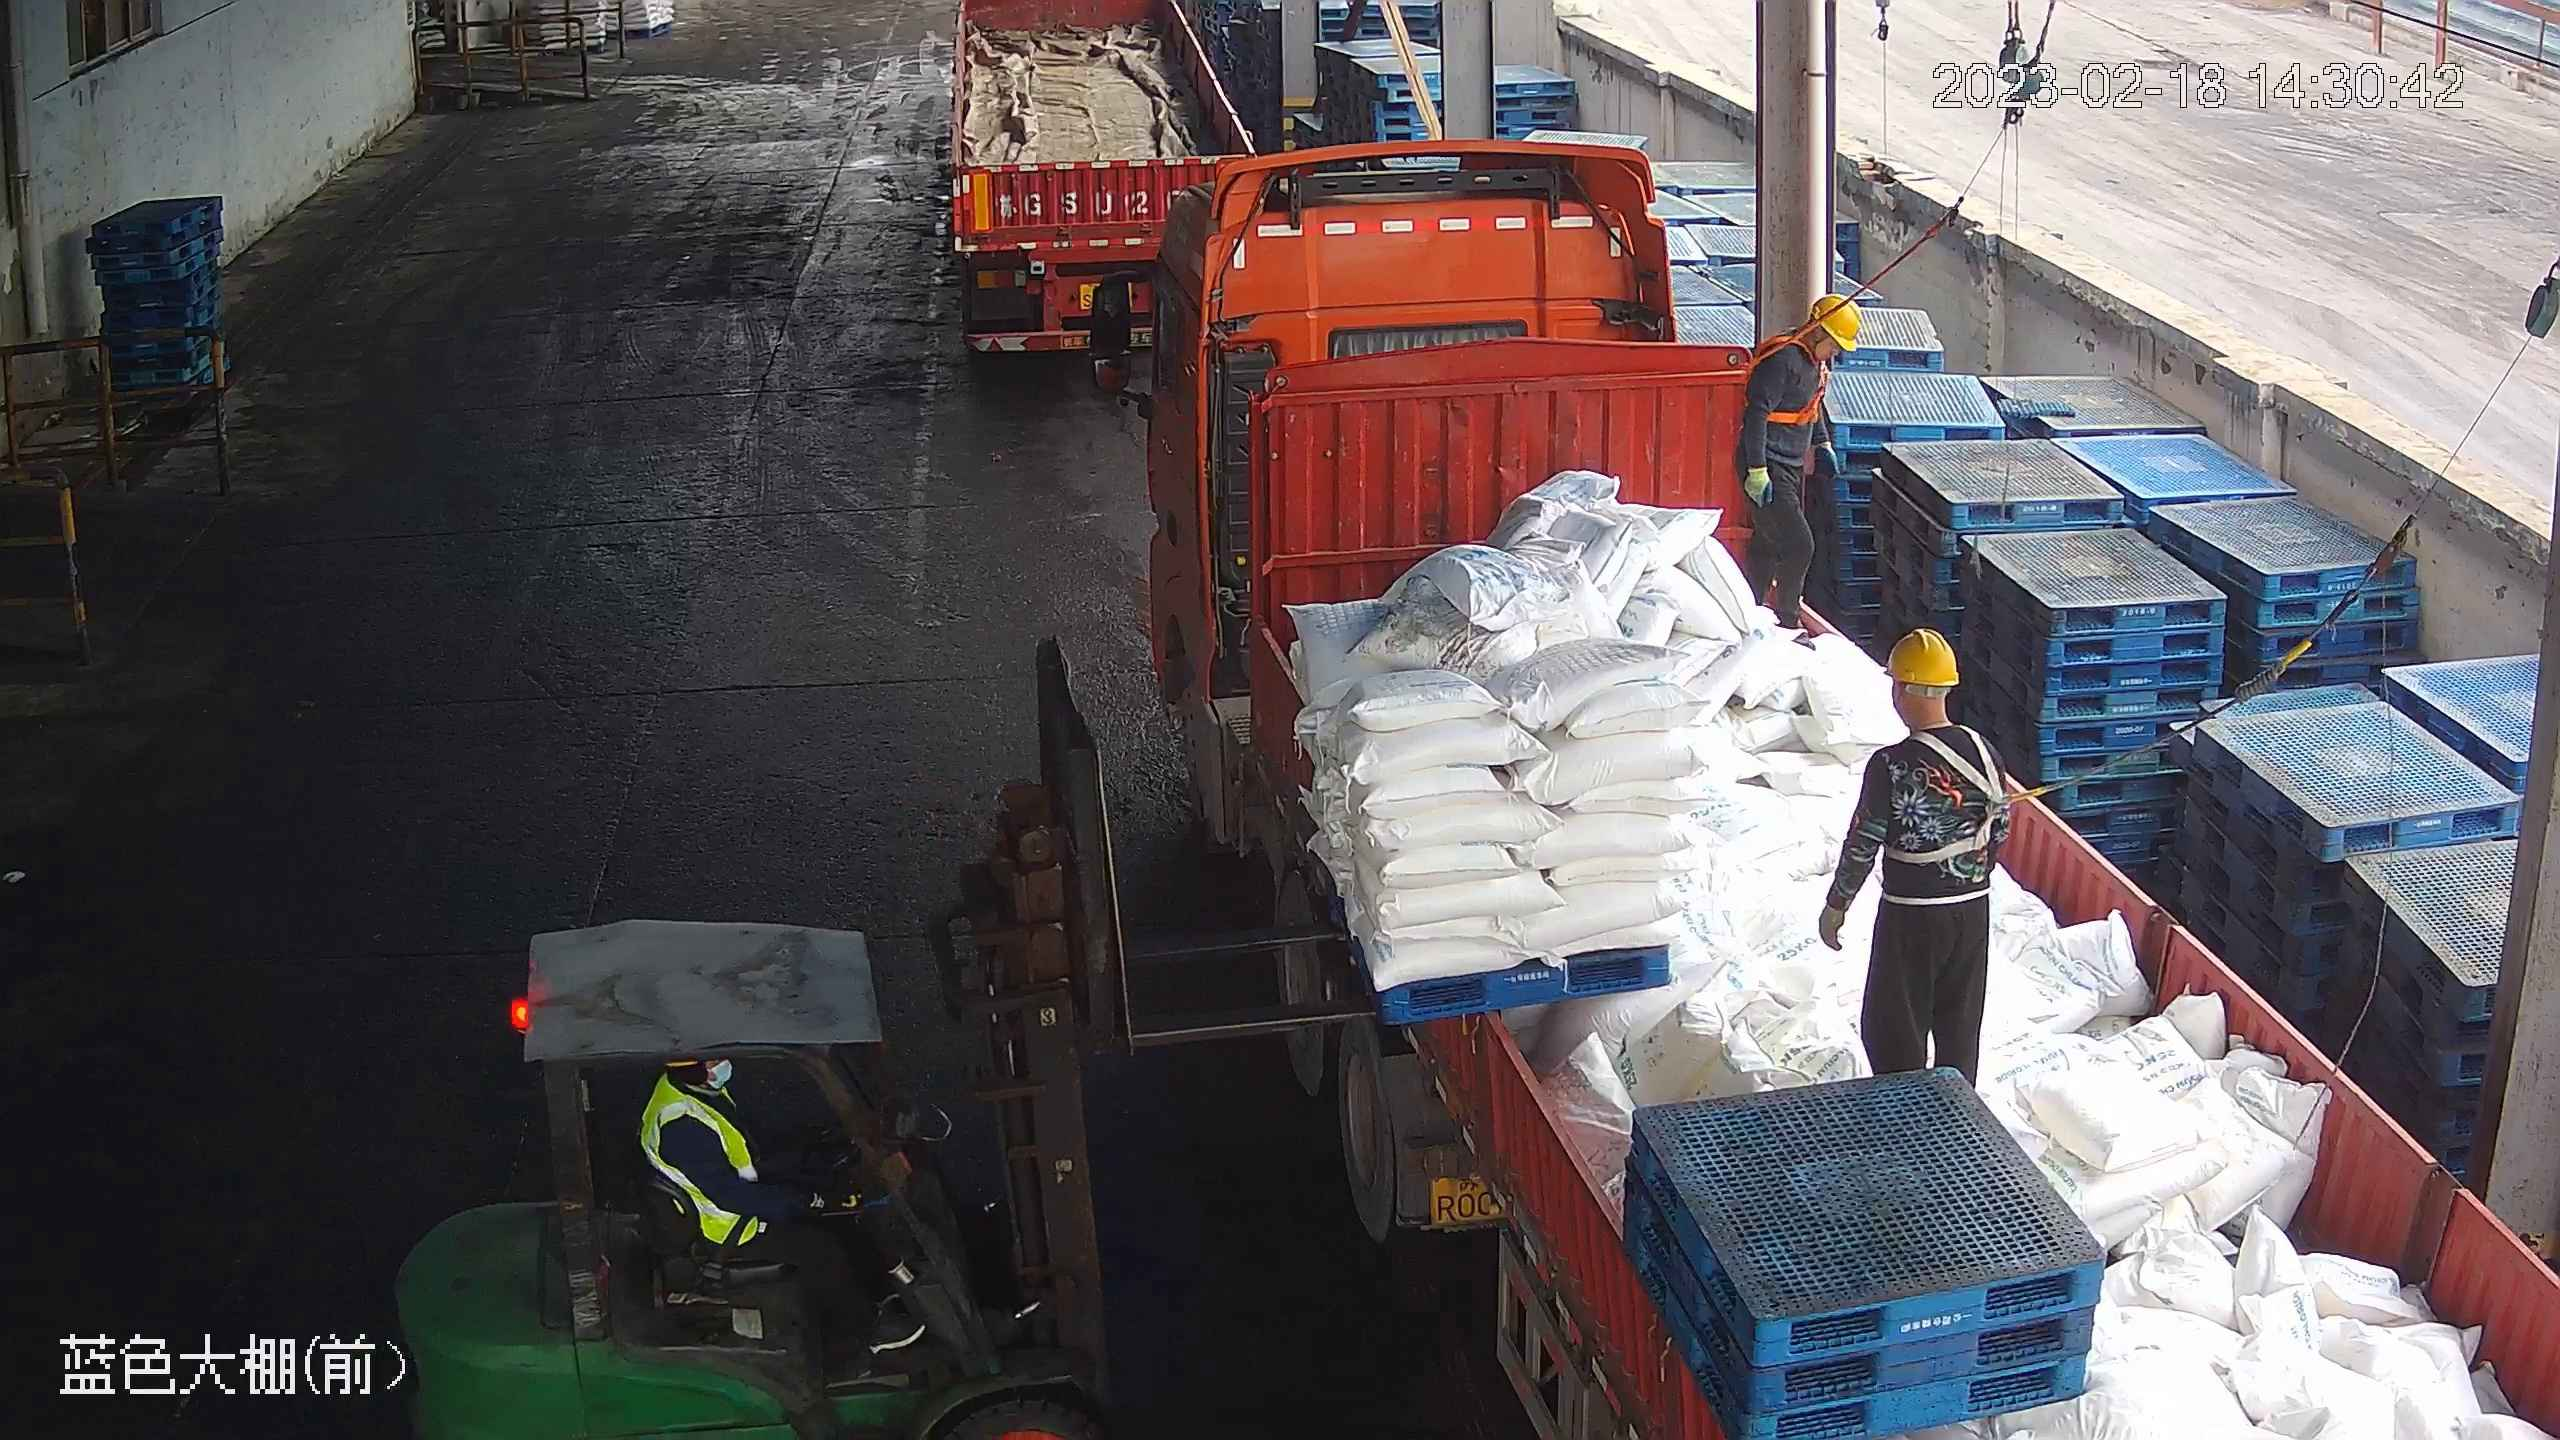belt: (1890, 724, 2017, 873), (1748, 334, 1837, 429)
head: (1857, 624, 2001, 801)
helmet: (1882, 623, 1961, 682), (1810, 292, 1861, 352)
people: (640, 1049, 927, 1359), (1819, 629, 2009, 1086), (1730, 288, 1865, 649)
truck: (1100, 136, 2558, 1440), (932, 1, 1271, 370)
